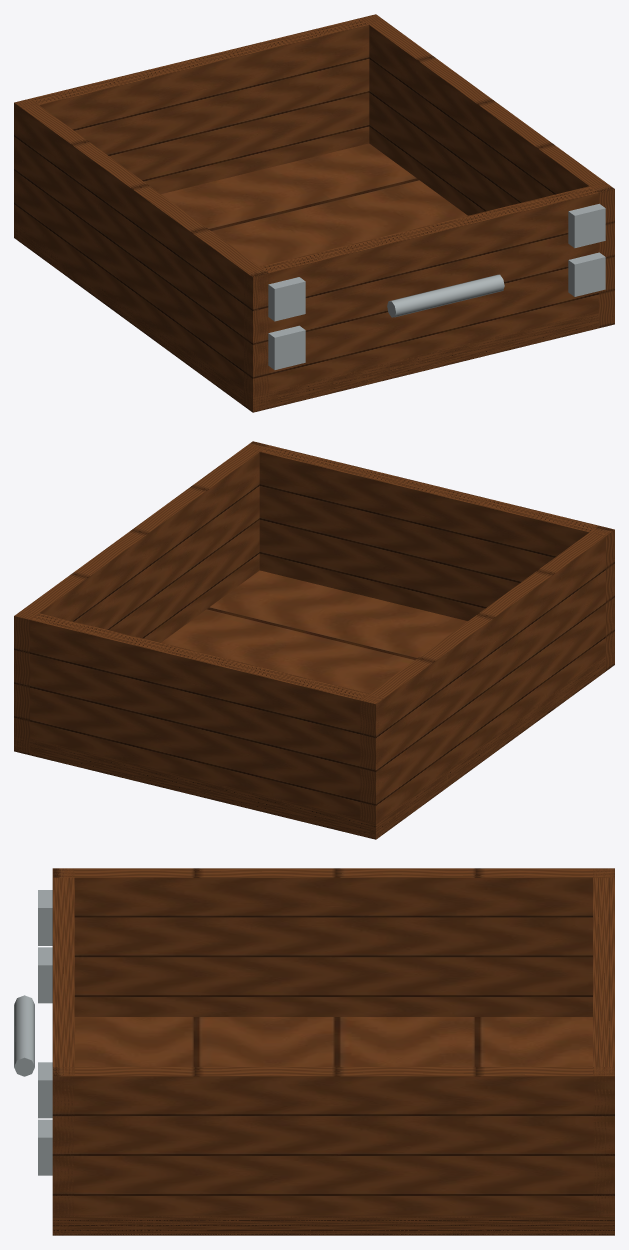
File: bunker-shelter-construction-under-bunk-drawer-8f6059ae__23338.glb
3 renders of one model, top to bottom at view 1: azimuth 30°, elevation 25°; view 2: azimuth 150°, elevation 25°; view 3: azimuth 270°, elevation 25°, orthographic. The views are drawn at different scales.
Visible parts, largest first — view 1: under-bunk-drawer; view 2: under-bunk-drawer; view 3: under-bunk-drawer.
Part boxes in pixels (left/top/right/bottom): under-bunk-drawer: left=14, top=14, right=614, bottom=412; under-bunk-drawer: left=14, top=441, right=614, bottom=839; under-bunk-drawer: left=14, top=868, right=614, bottom=1235.
Bounding box in the file's own units: 0.7 × 0.25 × 0.855.
2 materials, 1 textured.
